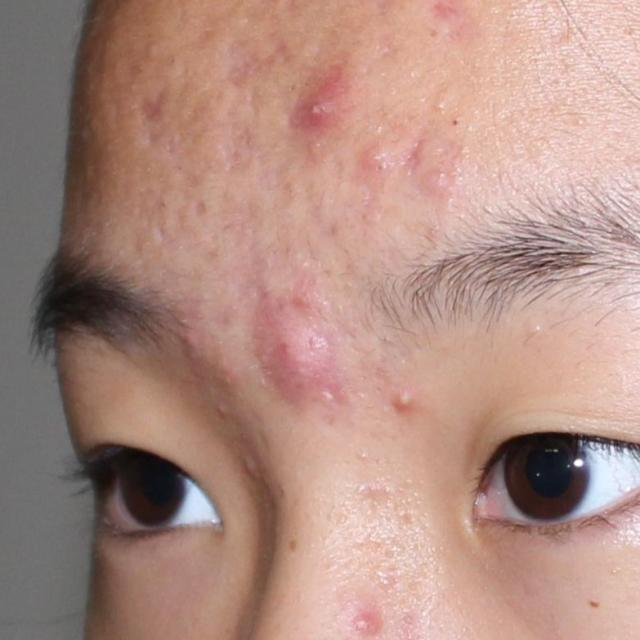nodule: (244, 277, 345, 422)
